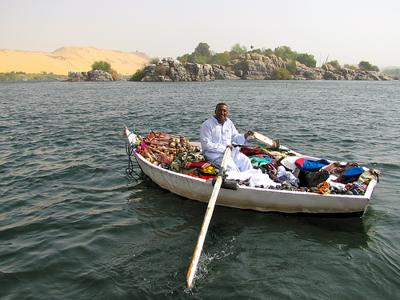person: (200, 104, 254, 174)
